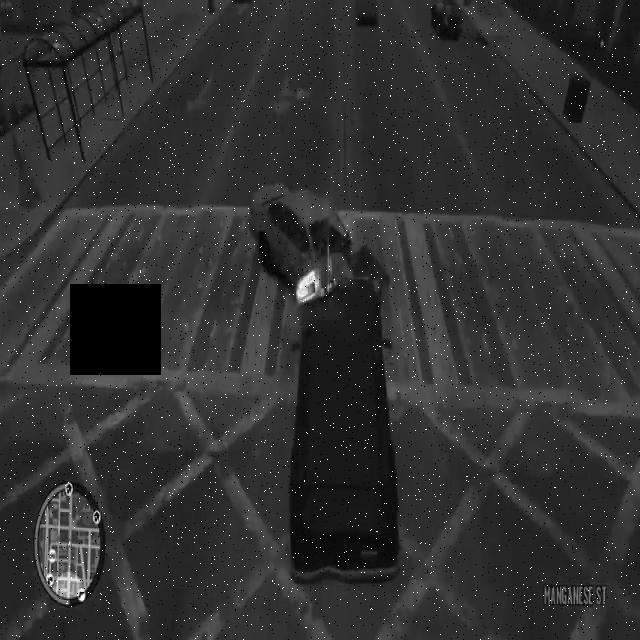accident: (245, 167, 406, 590)
vehicle: (426, 2, 468, 44), (352, 0, 384, 36)
